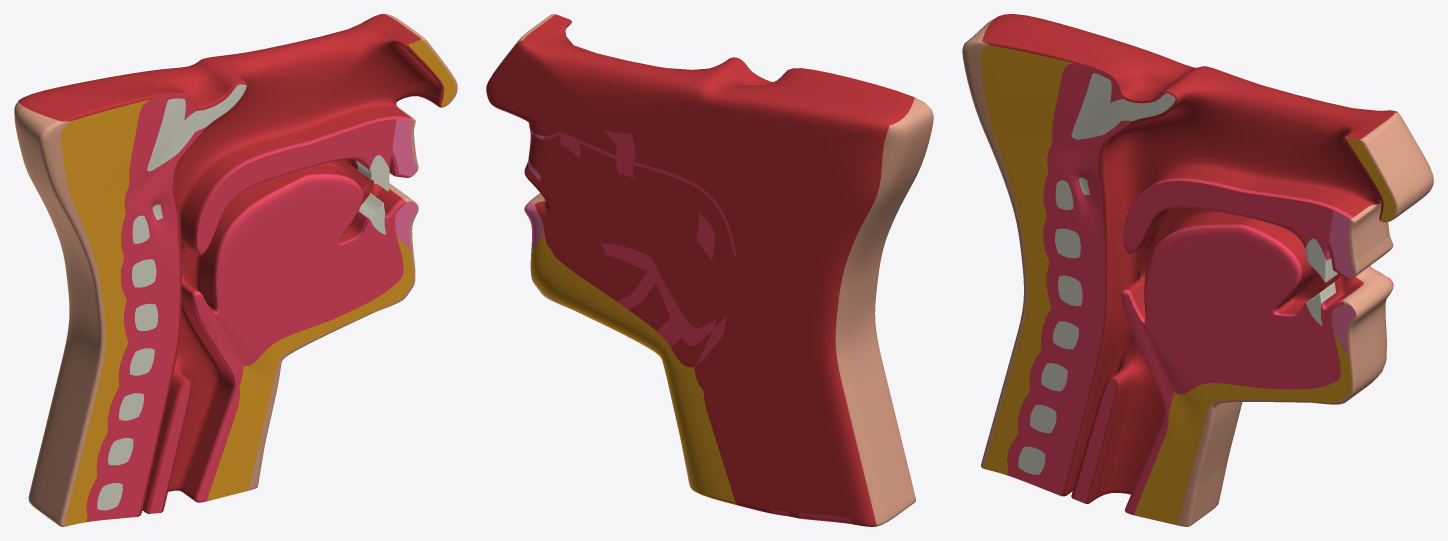
File: swallow anim 2.dae
3 renders of one model, left to right at view 1: azimuth 30°, elevation 25°; view 2: azimuth 150°, elevation 25°; view 3: azimuth 330°, elevation 25°, orthographic. The views are drawn at different scales.
Visible parts, largest first — view 1: Cube.002; view 2: Cube.002; view 3: Cube.002.
Part boxes in pixels (<box>): Cube.002: <box>14,14,457,526</box>; Cube.002: <box>486,14,933,526</box>; Cube.002: <box>962,14,1433,526</box>.
Size of the model in its own units: 8.76 by 1.45 by 8.43.
